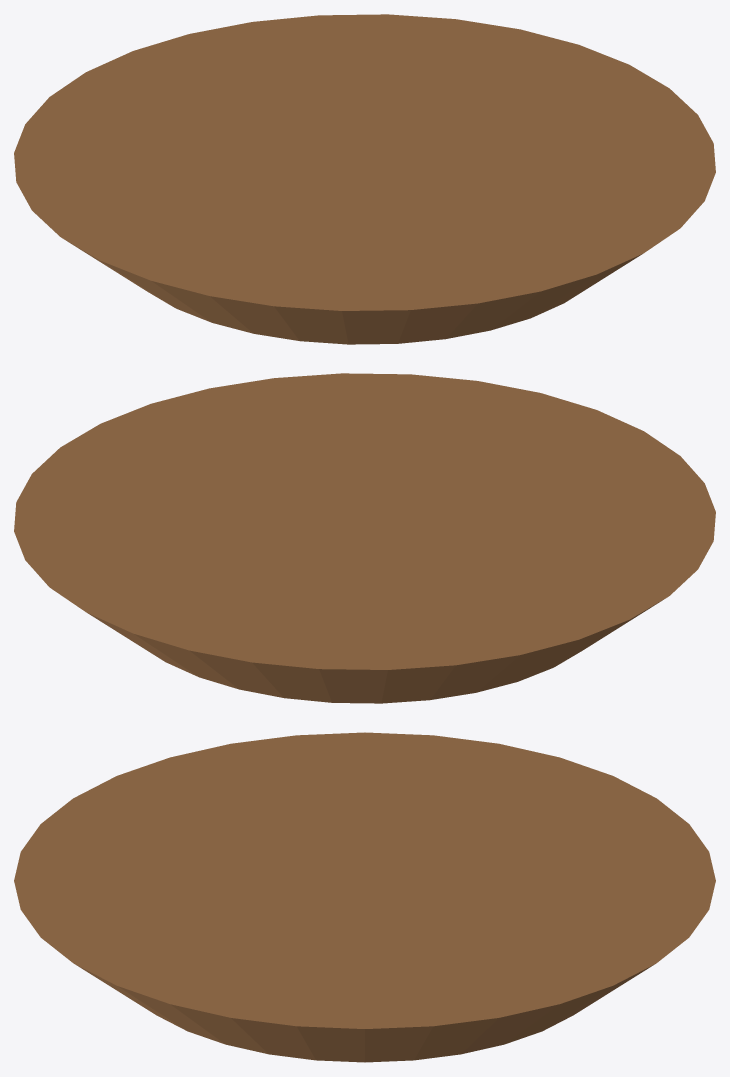
File: platform.glb
3 views of the same model, one above another, from view 1: azimuth 30°, elevation 25°; view 2: azimuth 150°, elevation 25°; view 3: azimuth 270°, elevation 25° (orthographic).
Parts seen in each view (by area): view 1: Cube; view 2: Cube; view 3: Cube.
Part boxes in pixels (left/top/right/bottom): Cube: left=14, top=14, right=715, bottom=344; Cube: left=14, top=373, right=715, bottom=703; Cube: left=14, top=732, right=715, bottom=1062.
Size of the model in its own units: 8.4 by 1 by 8.4.
1 material, 1 textured.
